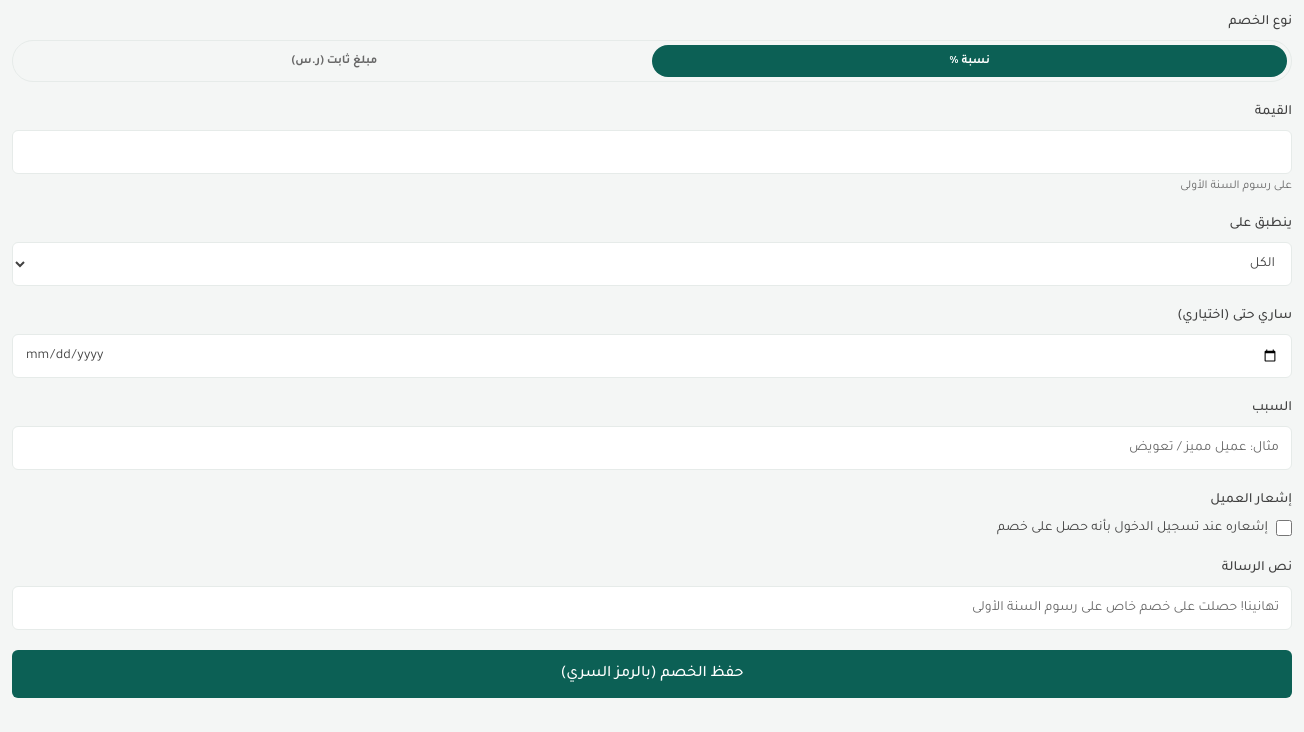
Test: DiscountForm - notify-on-login checkbox › blocks submit with a validation message when notify is on but the message is empty
The image size is (1304, 732).
Type "10" into the number field labelled "القيمة". click: (652, 152)
box: top-left (12, 130), bottom-right (1292, 174)
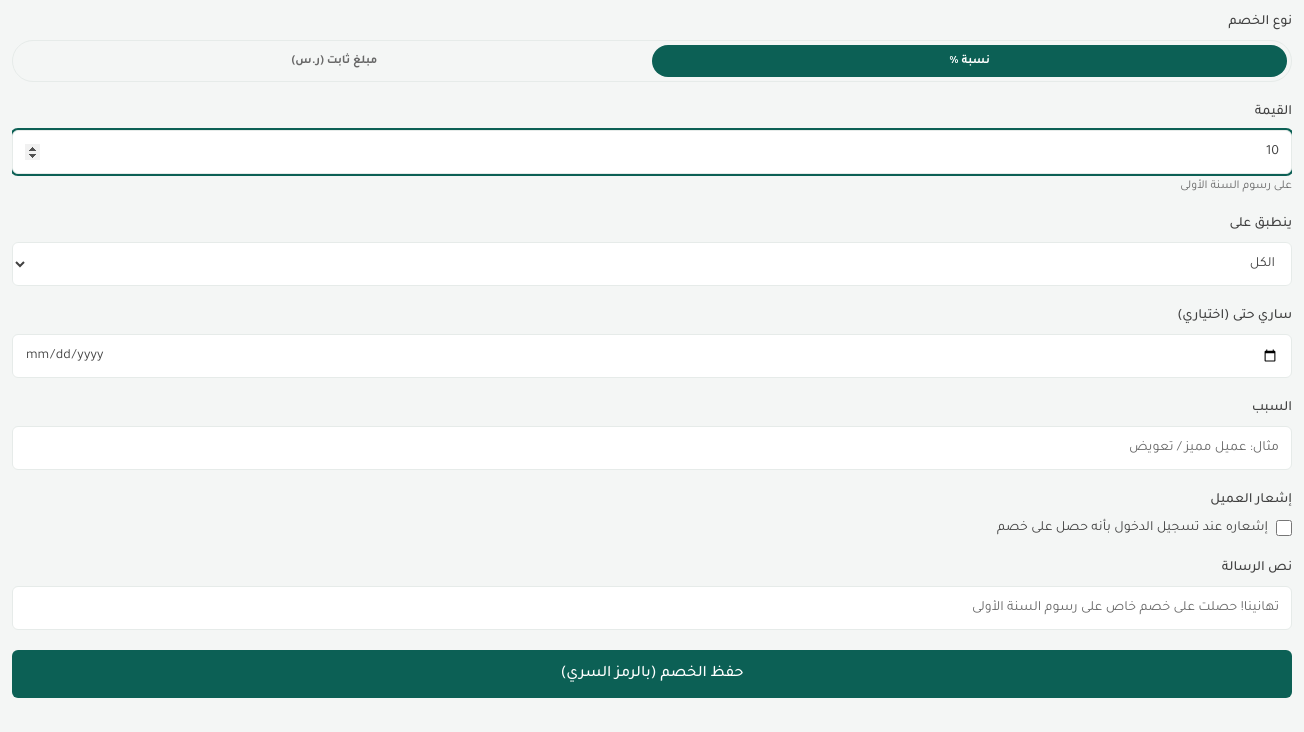
Type "عميل مميز" into the field labelled "السبب". click: (652, 448)
box: top-left (12, 426), bottom-right (1292, 470)
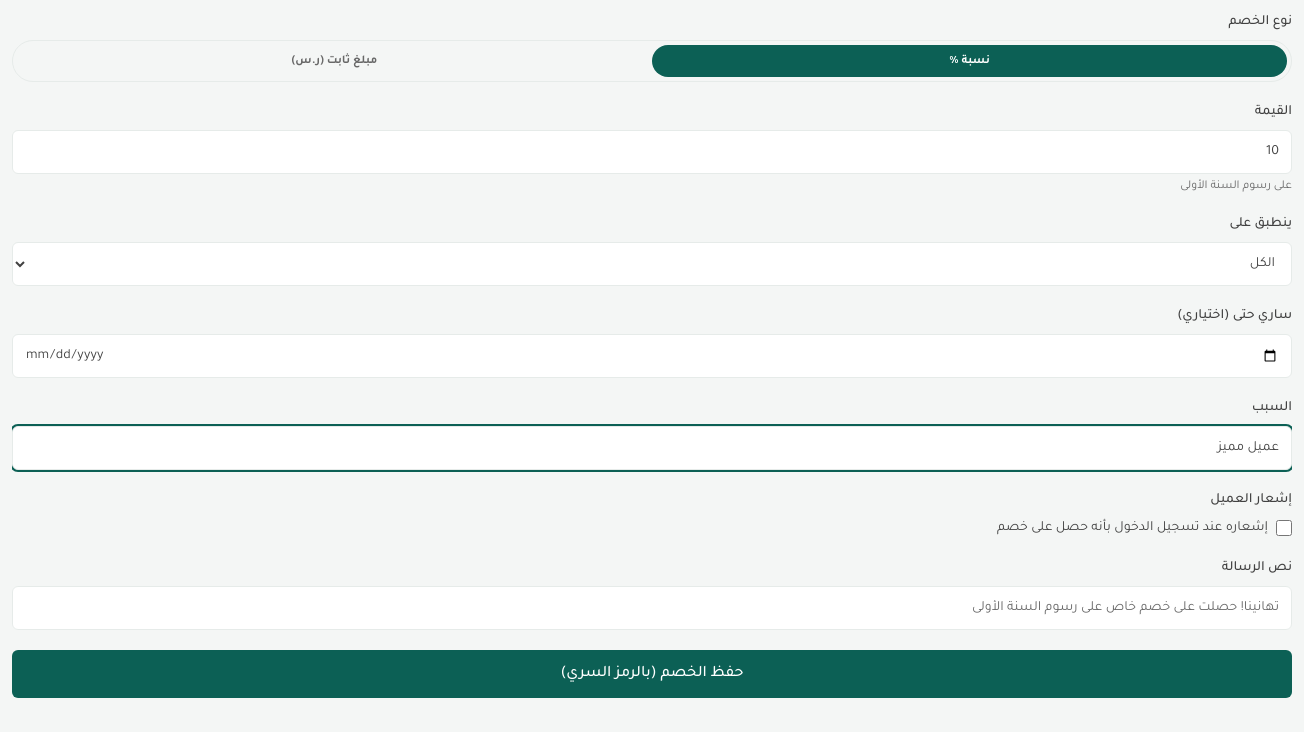
Click the checkbox labelled "إشعاره عند تسجيل الدخول بأنه حصل على خصم". click: (1284, 528)
box: top-left (1276, 520), bottom-right (1292, 536)
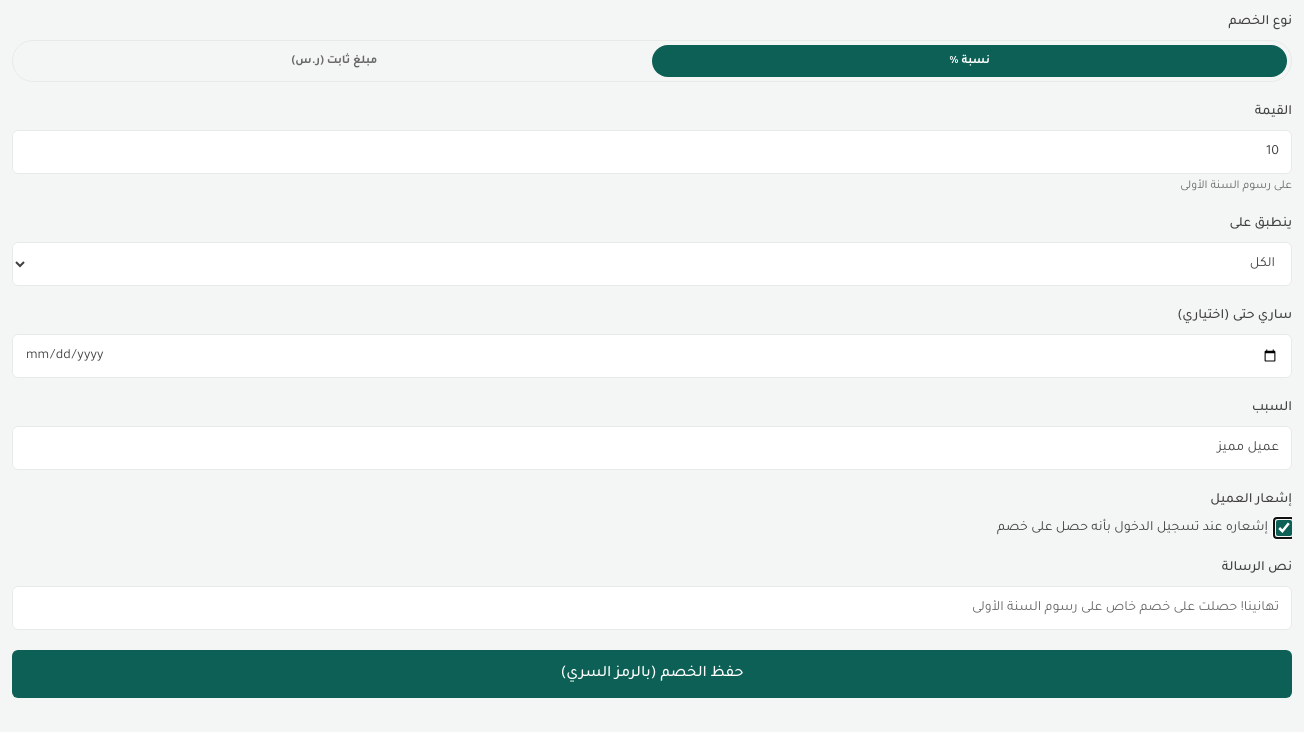
Click the button "حفظ الخصم (بالرمز السري)". click: (652, 674)
box: top-left (12, 650), bottom-right (1292, 698)
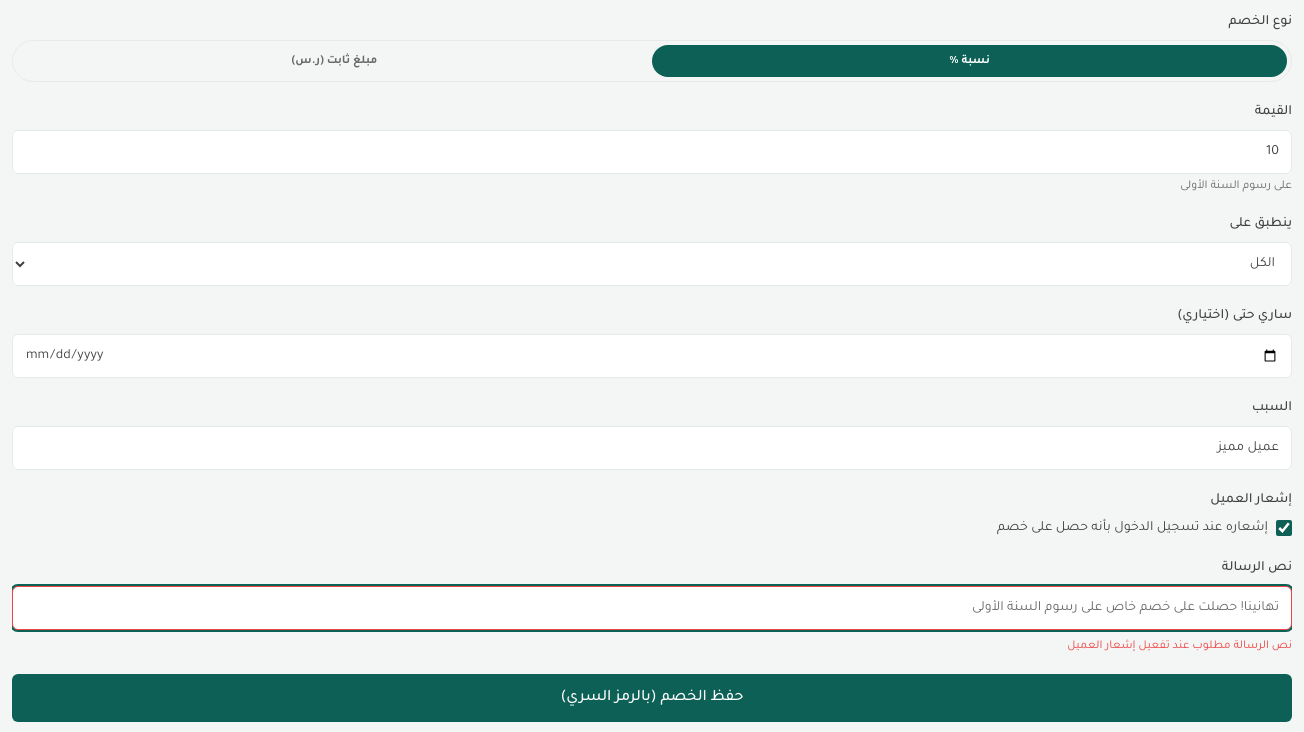
Expected: the text "نص الرسالة مطلوب عند تفعيل إشعار العميل" is shown, top-left (1067, 640), bottom-right (1292, 652)
